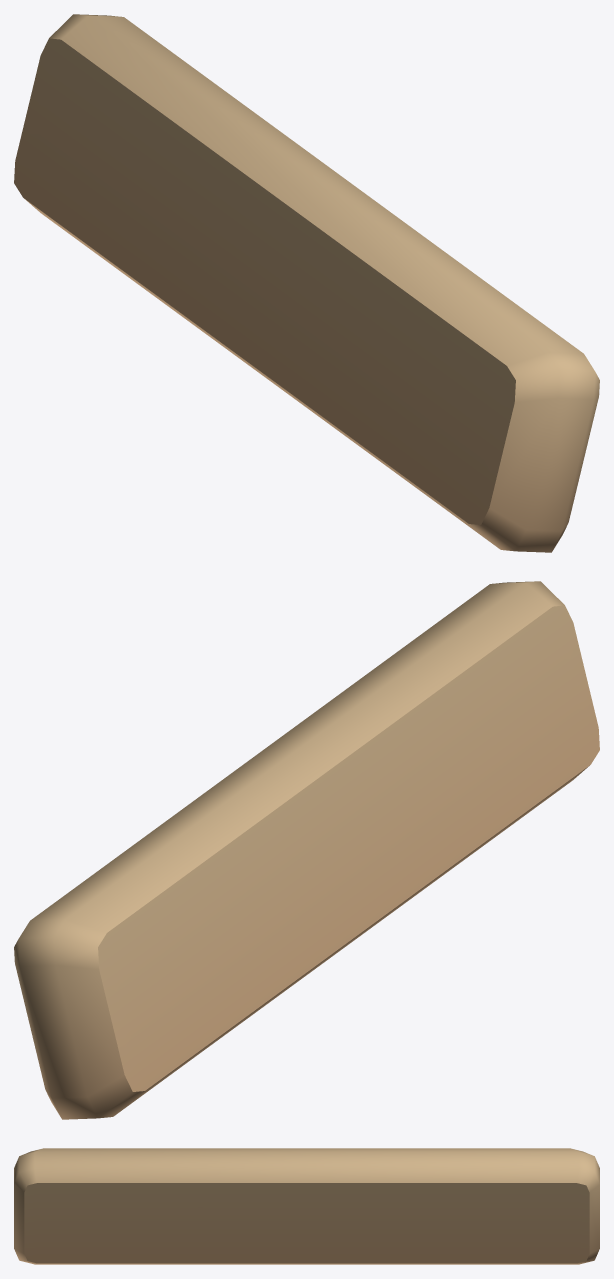
File: pillow-wider-square-reclining.glb
3 renders of one model, top to bottom at view 1: azimuth 30°, elevation 25°; view 2: azimuth 150°, elevation 25°; view 3: azimuth 270°, elevation 25°, orthographic. The views are drawn at different scales.
Visible parts, largest first — view 1: pillow-wider-square-reclining; view 2: pillow-wider-square-reclining; view 3: pillow-wider-square-reclining.
Boxes of the visible parts, x1,y1,x2,y2 form: pillow-wider-square-reclining: [14, 14, 599, 552]; pillow-wider-square-reclining: [14, 581, 599, 1119]; pillow-wider-square-reclining: [14, 1148, 599, 1264].
Bounding box in the file's own units: 0.194 × 0.3054 × 1.4.
